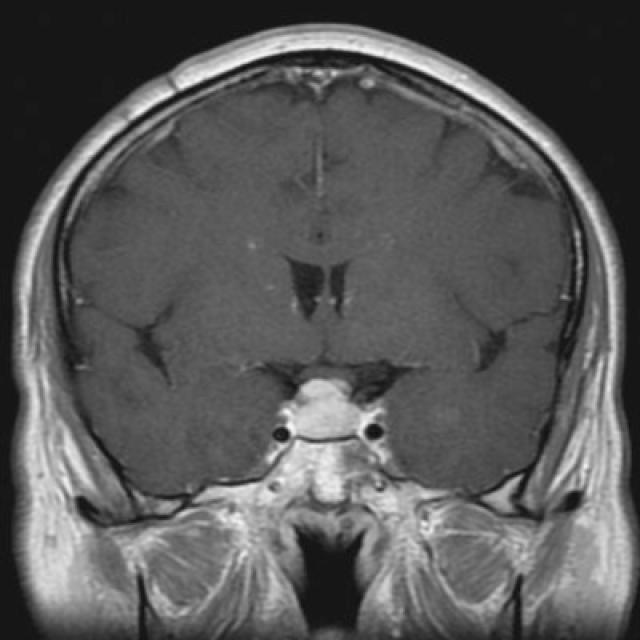brain_tumor: (283, 378, 365, 446)
